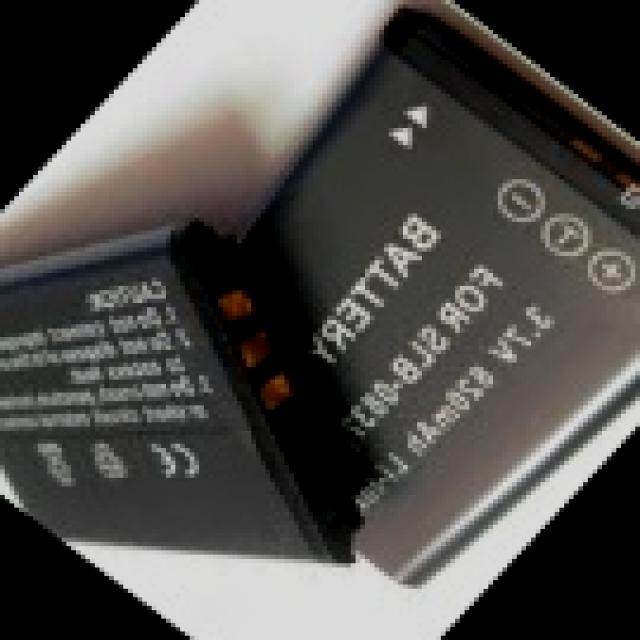elektronik: (250, 44, 632, 567)
